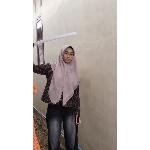Pedang: (33, 30, 81, 50)
